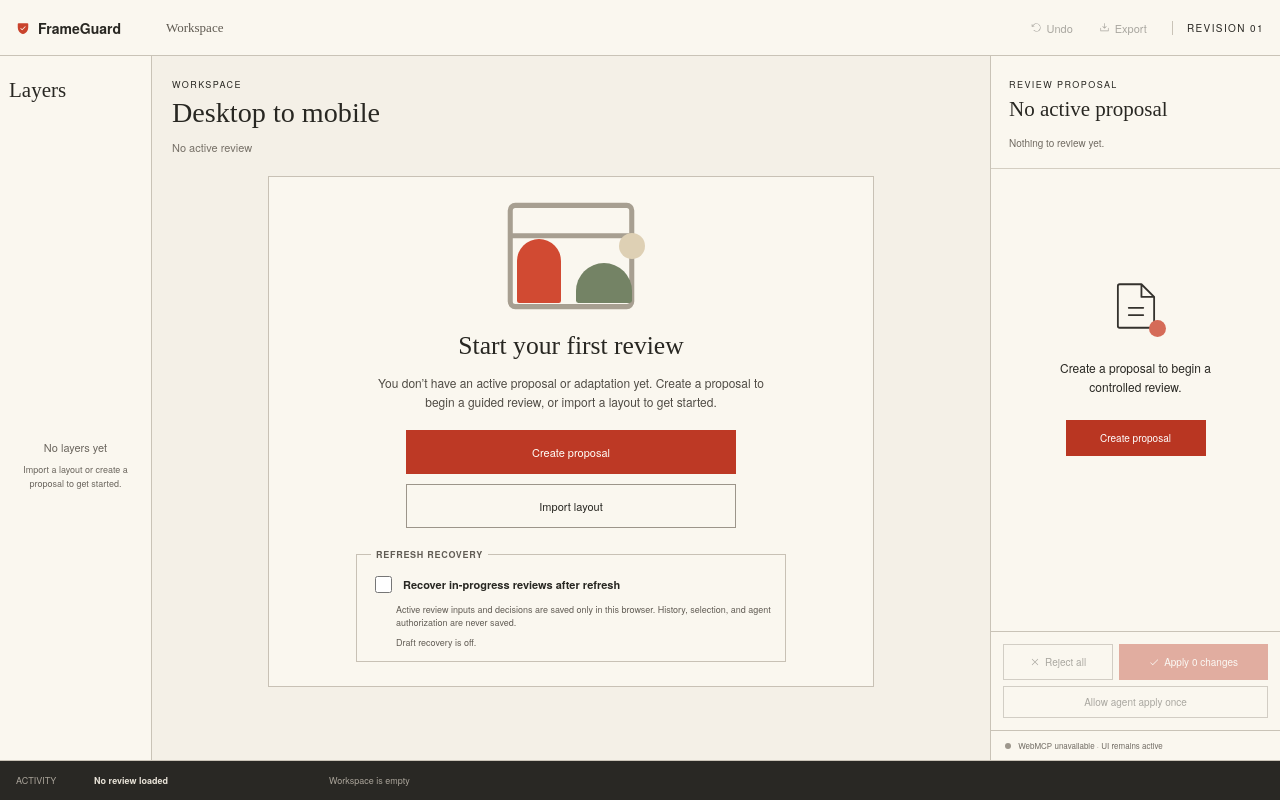
Test case: offers explicit browser-local recovery without loading a workspace
This screenshot has width=1280, height=800.
Step 1. Click the checkbox labelled "Recover in-progress reviews after refresh" → (384, 584), box [375,576,392,593]
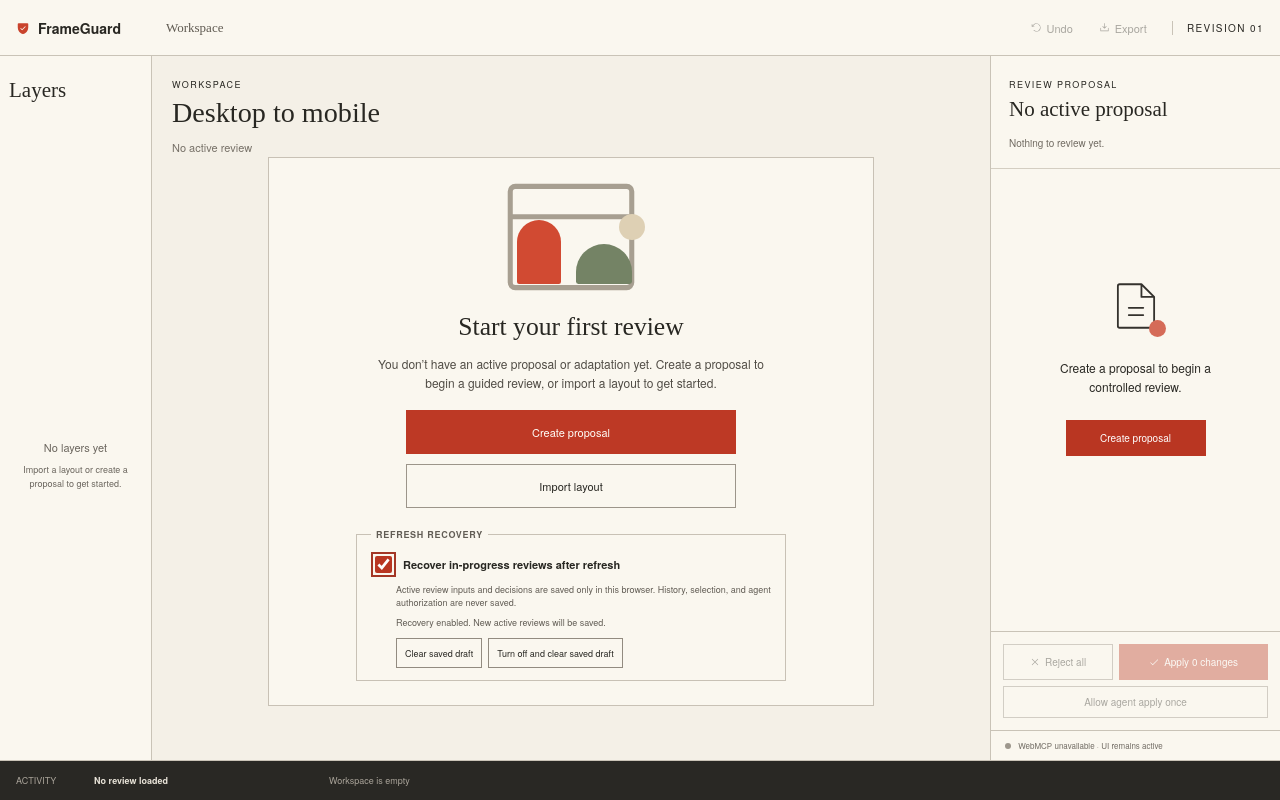
Expected: the heading "Start your first review" is shown, [458,312,684,342]
Expected: the checkbox labelled "Recover in-progress reviews after refresh" is checked, [375,556,392,573]
Expected: the message shows "Recovery enabled", [396,616,606,629]
